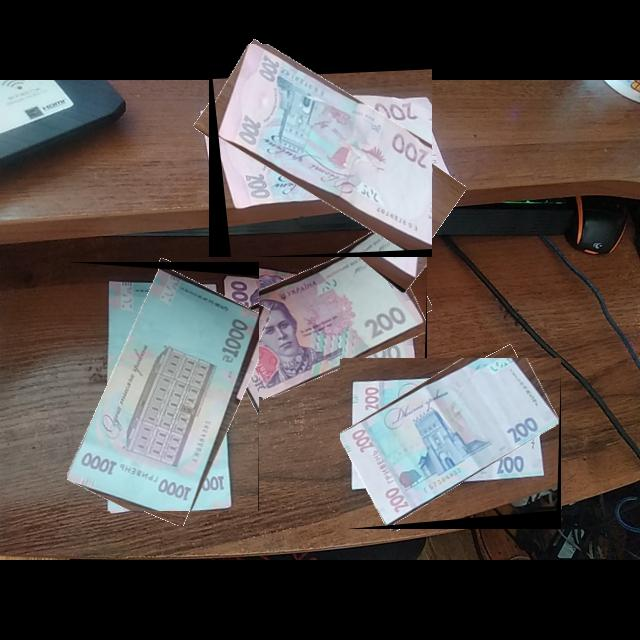1000uah: (67, 268, 260, 512)
200uah: (216, 44, 433, 250), (340, 358, 560, 527), (216, 241, 427, 398)
